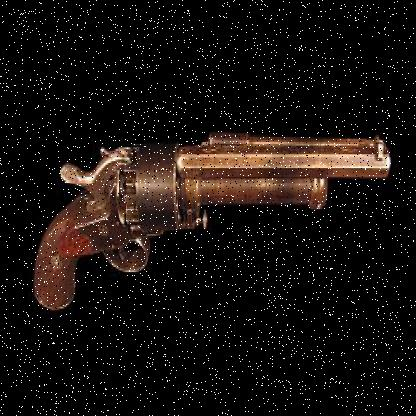pistol: (34, 118, 393, 314)
